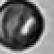correct: (0, 0, 45, 51)
